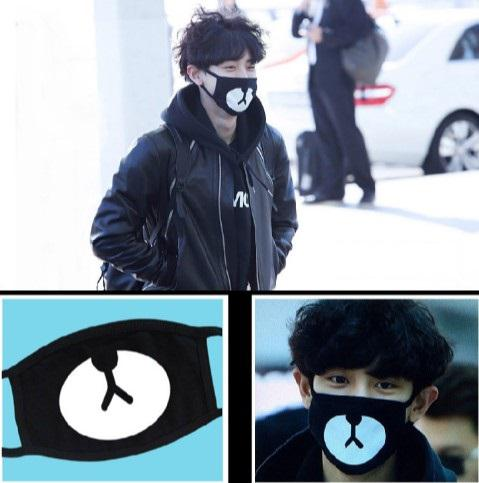OK: (310, 355, 423, 468), (195, 54, 262, 117)
